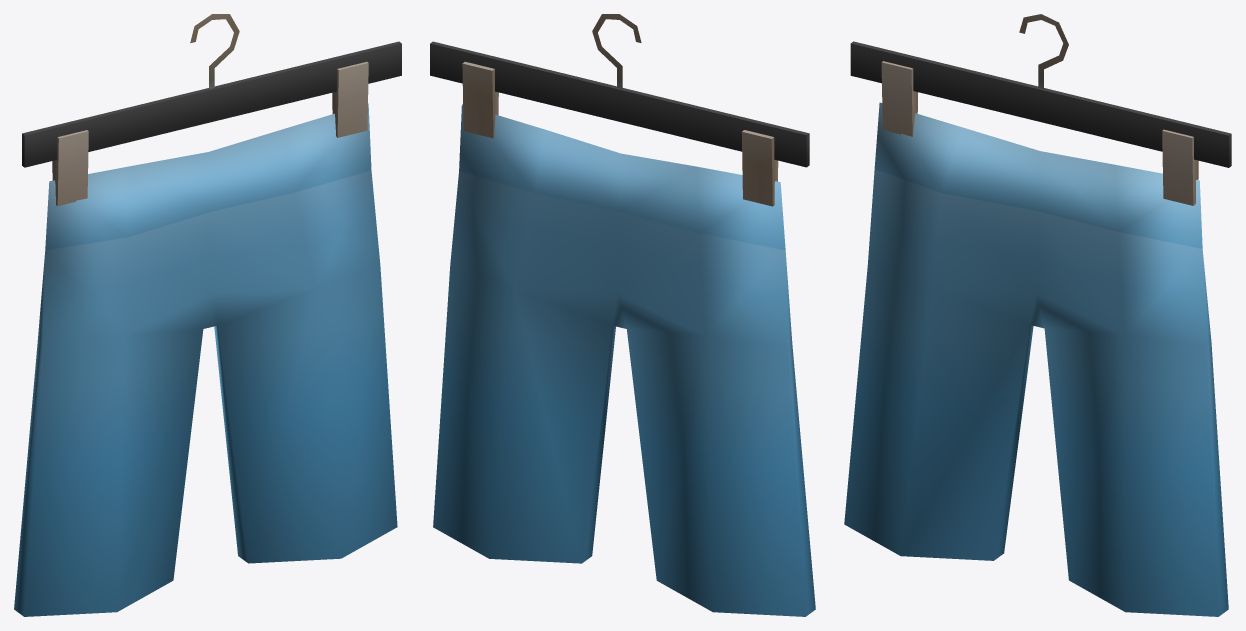
File: Hang_Pants_02.FBX
3 views of the same model, side by side, from view 1: azimuth 30°, elevation 25°; view 2: azimuth 150°, elevation 25°; view 3: azimuth 330°, elevation 25° (orthographic).
Parts seen in each view (by area): view 1: Hang_Pants_02; view 2: Hang_Pants_02; view 3: Hang_Pants_02.
Boxes of the visible parts, <box> form: Hang_Pants_02: <box>14,14,401,616</box>; Hang_Pants_02: <box>430,14,815,616</box>; Hang_Pants_02: <box>844,14,1231,616</box>.
Size of the model in its own units: 0.4494 by 0.0961 by 0.625.
